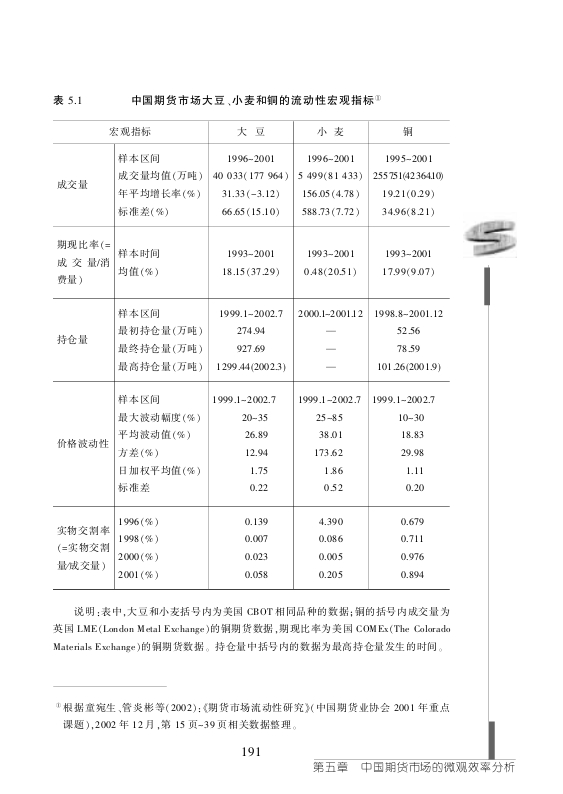table: (52, 120, 449, 590)
